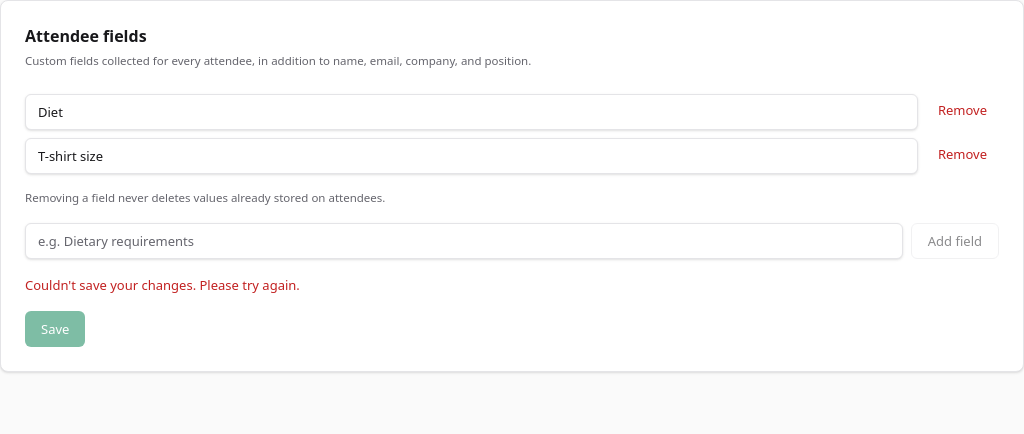
Scenario: AttendeeFieldsCard › adds a new field locally without PATCHing until Save is clicked
Type "Allergies" into the field named "New field name".
click(464, 241); type("Allergies")  # box 25,223 -> 903,259
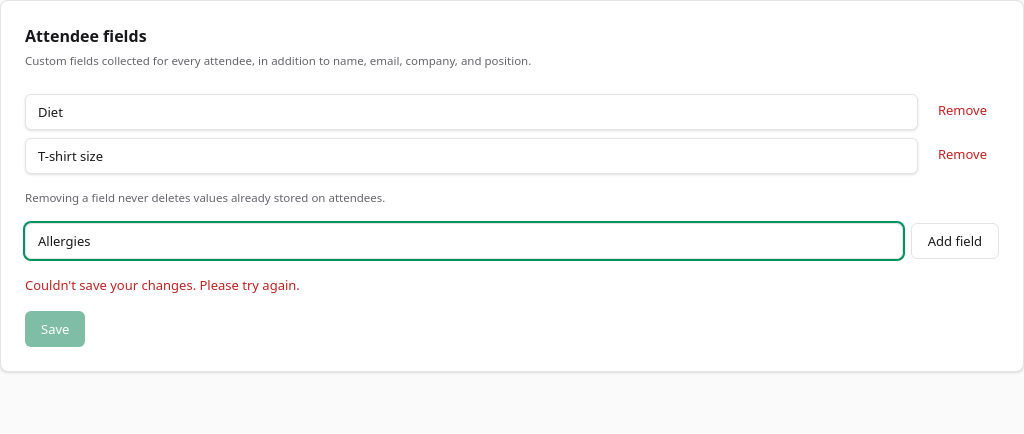
Click the button "Add field".
click(955, 241)  # box 911,223 -> 999,259
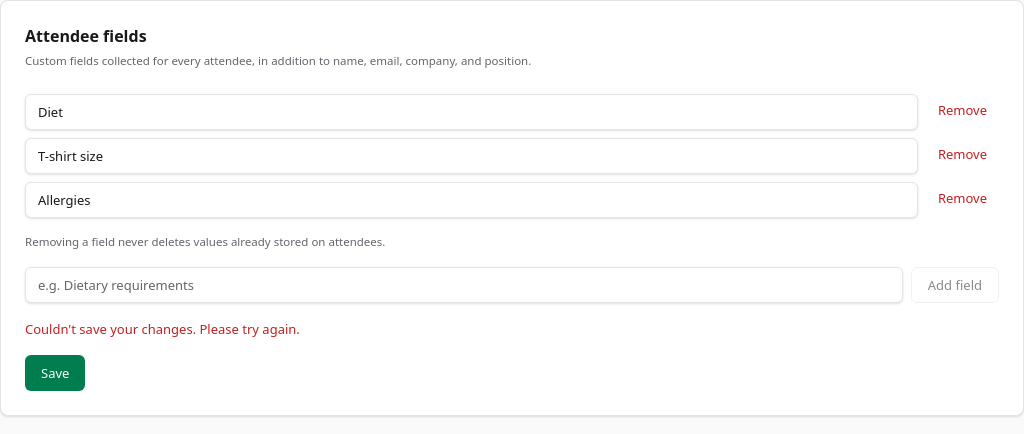
Result: the field showing "Allergies" is shown at 25,182 -> 918,218
Result: the button "Save" is enabled at 25,355 -> 85,391
